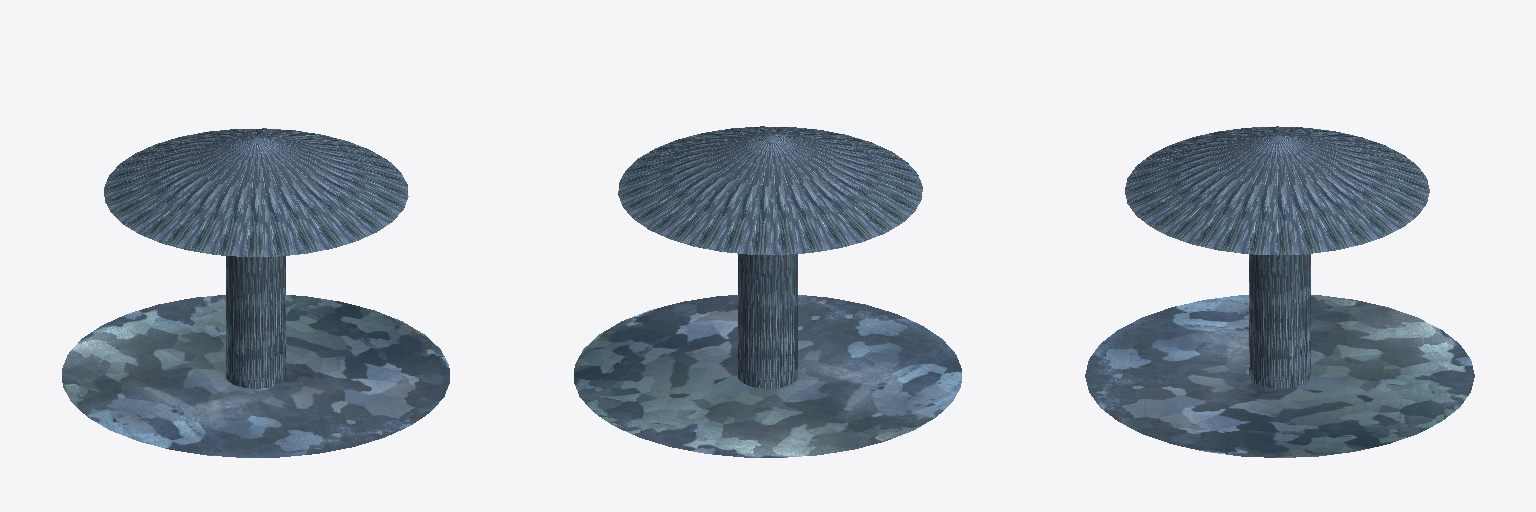
The picture shows the model from 3 angles: view 1: azimuth 30°, elevation 25°; view 2: azimuth 150°, elevation 25°; view 3: azimuth 270°, elevation 25°; orthographic projection.
Visible parts, largest first — view 1: Cone; view 2: Cone; view 3: Cone.
Part boxes in pixels (x1,y1,x2,y2): Cone: (62, 128, 449, 457); Cone: (574, 126, 961, 457); Cone: (1085, 126, 1474, 457).
Bounding box in the file's own units: 12.76 × 8.66 × 12.76.
Materials: 1 (1 with a texture image).